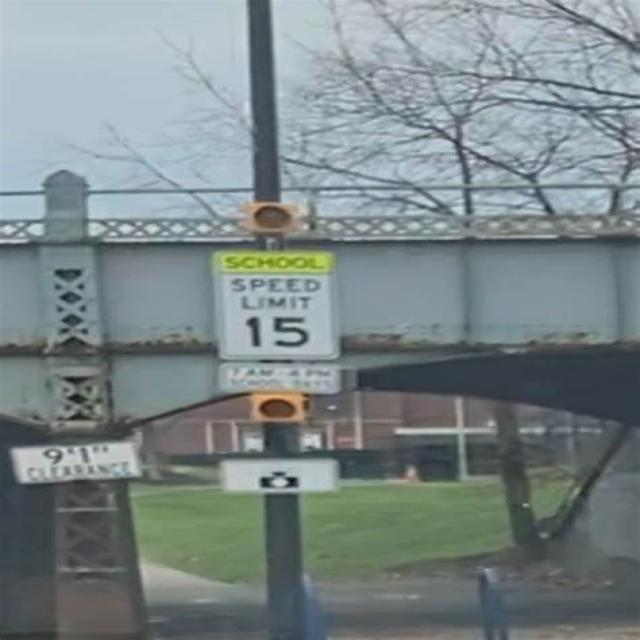speedLimit15: (218, 261, 337, 359)
